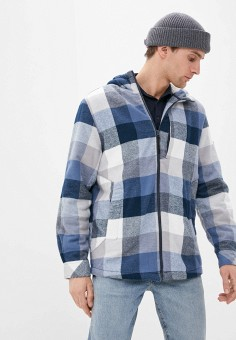squared: (53, 68, 229, 285)
